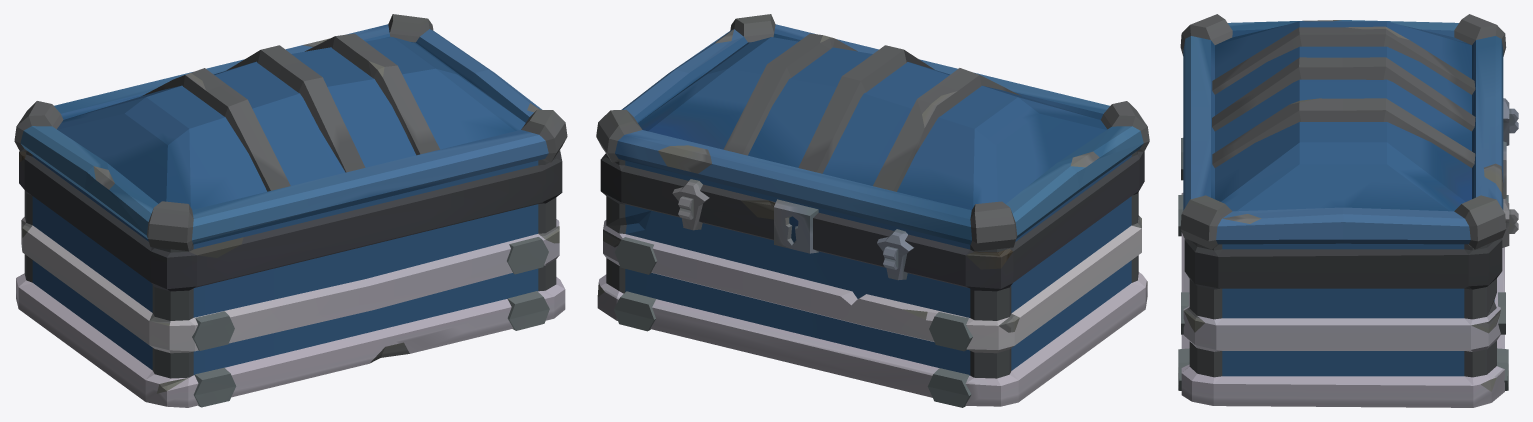
Rendered from SM_Prop_Trunk_01.glb.
The picture shows the model from 3 angles, left to right: view 1: azimuth 30°, elevation 25°; view 2: azimuth 150°, elevation 25°; view 3: azimuth 270°, elevation 25°; orthographic projection.
Parts seen in each view (by area): view 1: SM_Prop_Trunk_01; view 2: SM_Prop_Trunk_01; view 3: SM_Prop_Trunk_01.
Boxes of the visible parts, bbox=[...] form: SM_Prop_Trunk_01: bbox=[14, 14, 567, 407]; SM_Prop_Trunk_01: bbox=[596, 14, 1149, 407]; SM_Prop_Trunk_01: bbox=[1178, 14, 1518, 407].
Size of the model in its own units: 130 by 72.4 by 90.89.
1 material, 1 textured.
